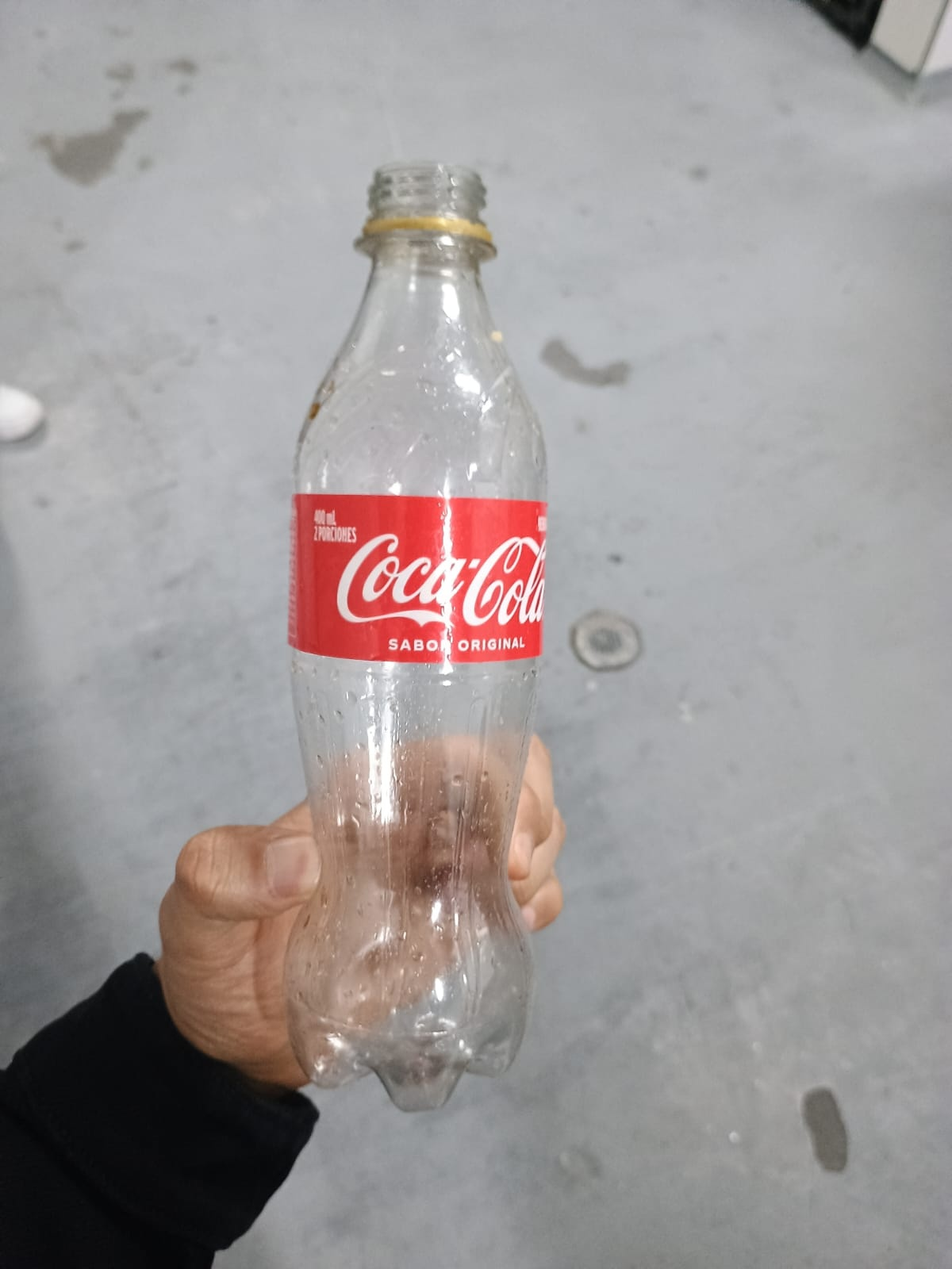Plastico: (281, 159, 552, 1113)
